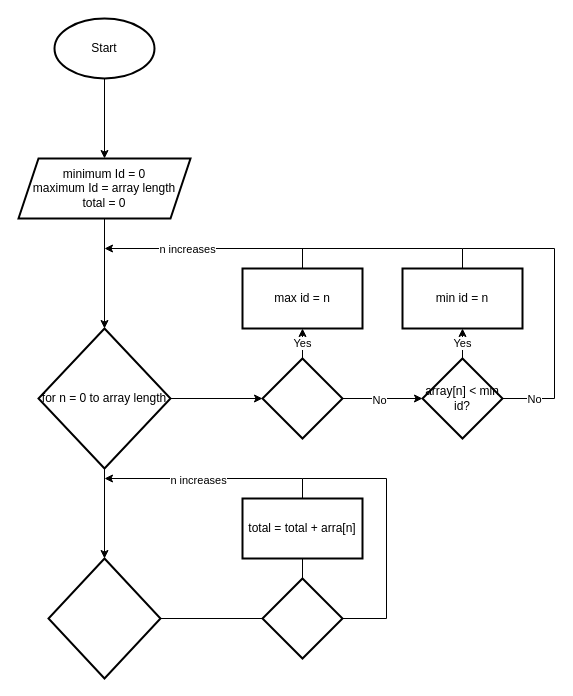
Image size: 573x696. Some labels were removed from this diagram. Here are the shapes that lost their labels. From the top down, the box of each, then its label:
(261, 357, 343, 439): array[n] > max id?
(47, 557, 161, 679): for n = 0 to array length do
(261, 577, 343, 659): n not max id and min id?
